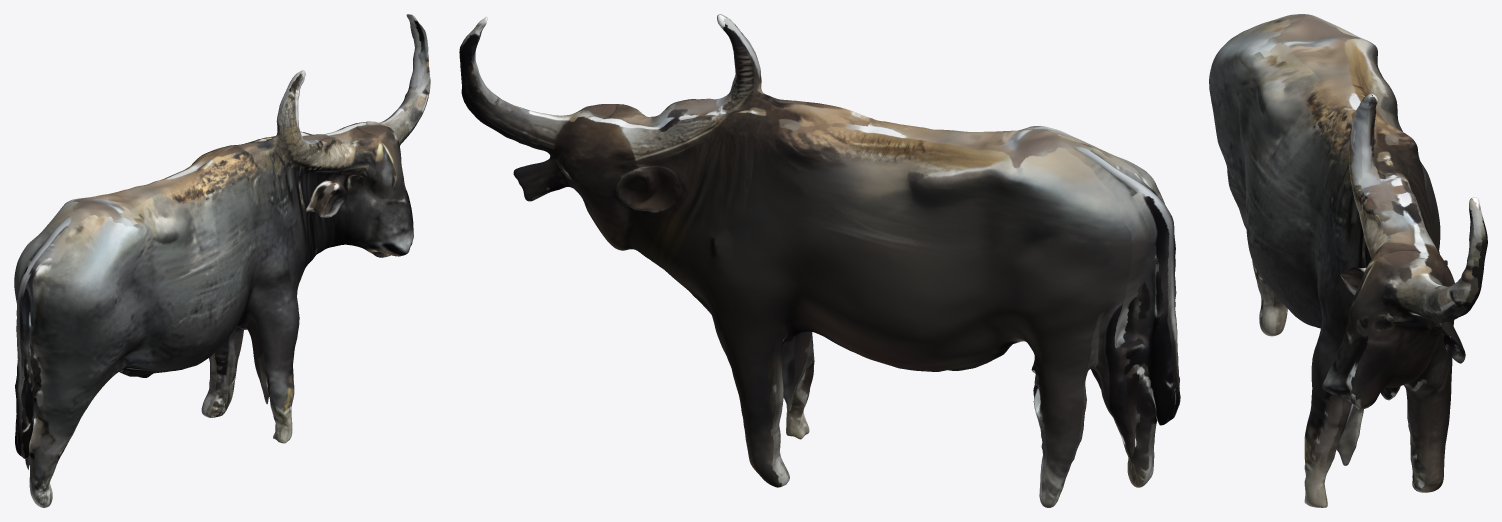
Rendered from adulto.glb.
3 views of the same model, side by side, from view 1: azimuth 30°, elevation 25°; view 2: azimuth 150°, elevation 25°; view 3: azimuth 270°, elevation 25° (orthographic). The views are drawn at different scales.
Parts seen in each view (by area): view 1: mesh; view 2: mesh; view 3: mesh.
Part boxes in pixels (bbox=[...]): mesh: bbox=[14, 14, 430, 507]; mesh: bbox=[459, 14, 1180, 507]; mesh: bbox=[1209, 14, 1487, 507].
Bounding box in the file's own units: 1.68 × 1.12 × 0.6484.
1 material, 1 textured.
